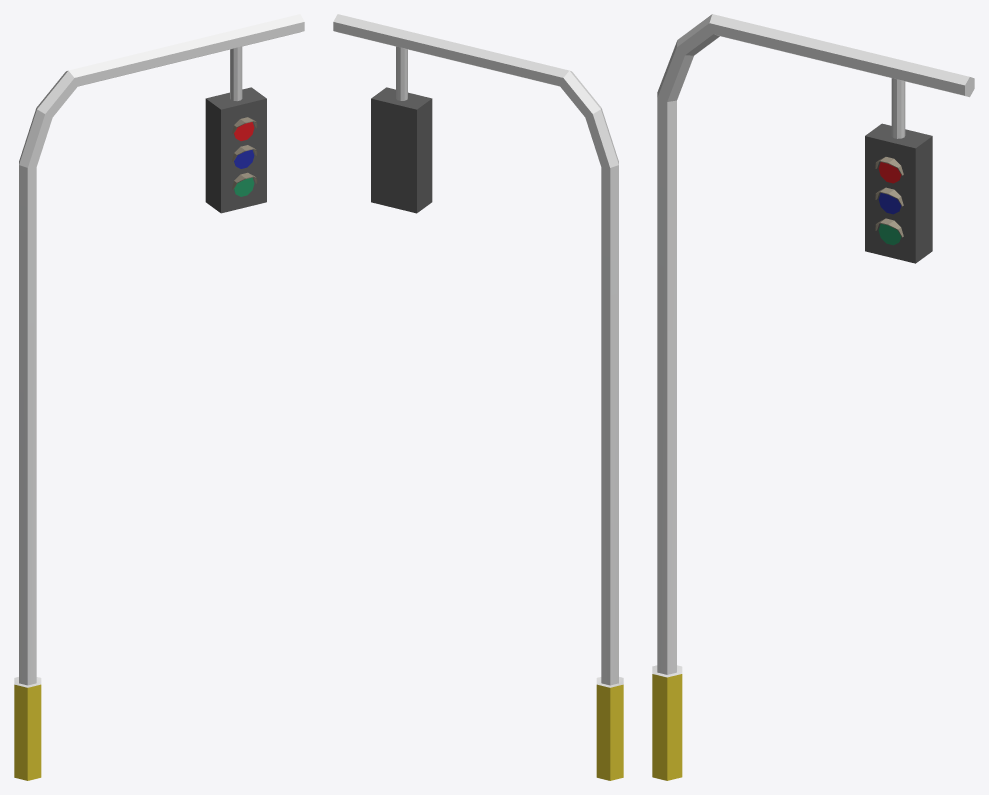
Rendered from semaforo_2.FBX.
The picture shows the model from 3 angles, left to right: view 1: azimuth 30°, elevation 25°; view 2: azimuth 150°, elevation 25°; view 3: azimuth 330°, elevation 25°; orthographic projection. The views are drawn at different scales.
Parts seen in each view (by area): view 1: Line001; view 2: Line001; view 3: Line001.
Boxes of the visible parts, x1,y1,x2,y2 form: Line001: [14, 14, 304, 780]; Line001: [333, 14, 623, 780]; Line001: [652, 14, 974, 780].
Size of the model in its own units: 142 by 328 by 17.77.
